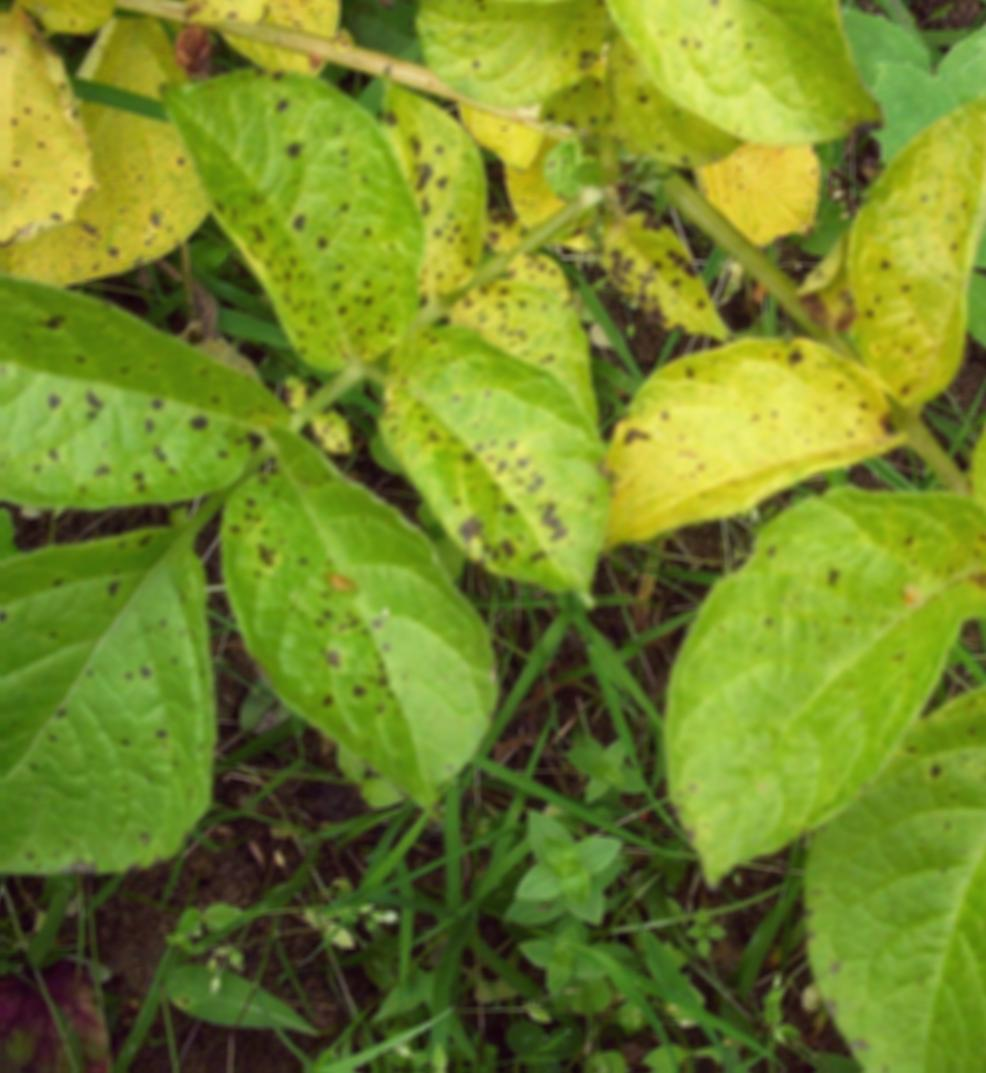Tomato Septoria leaf spot: (638, 485, 986, 906), (231, 407, 515, 818), (181, 41, 437, 436), (374, 307, 599, 617), (0, 268, 272, 520), (573, 339, 887, 546), (837, 86, 986, 434), (572, 201, 739, 347), (0, 15, 100, 252)
